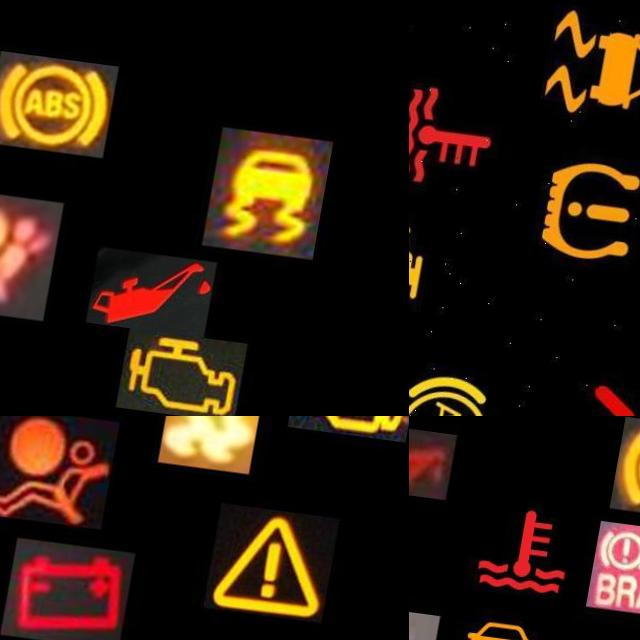Central Warning lamp: (220, 491, 353, 608)
Engine cooling system: (472, 478, 606, 608)
